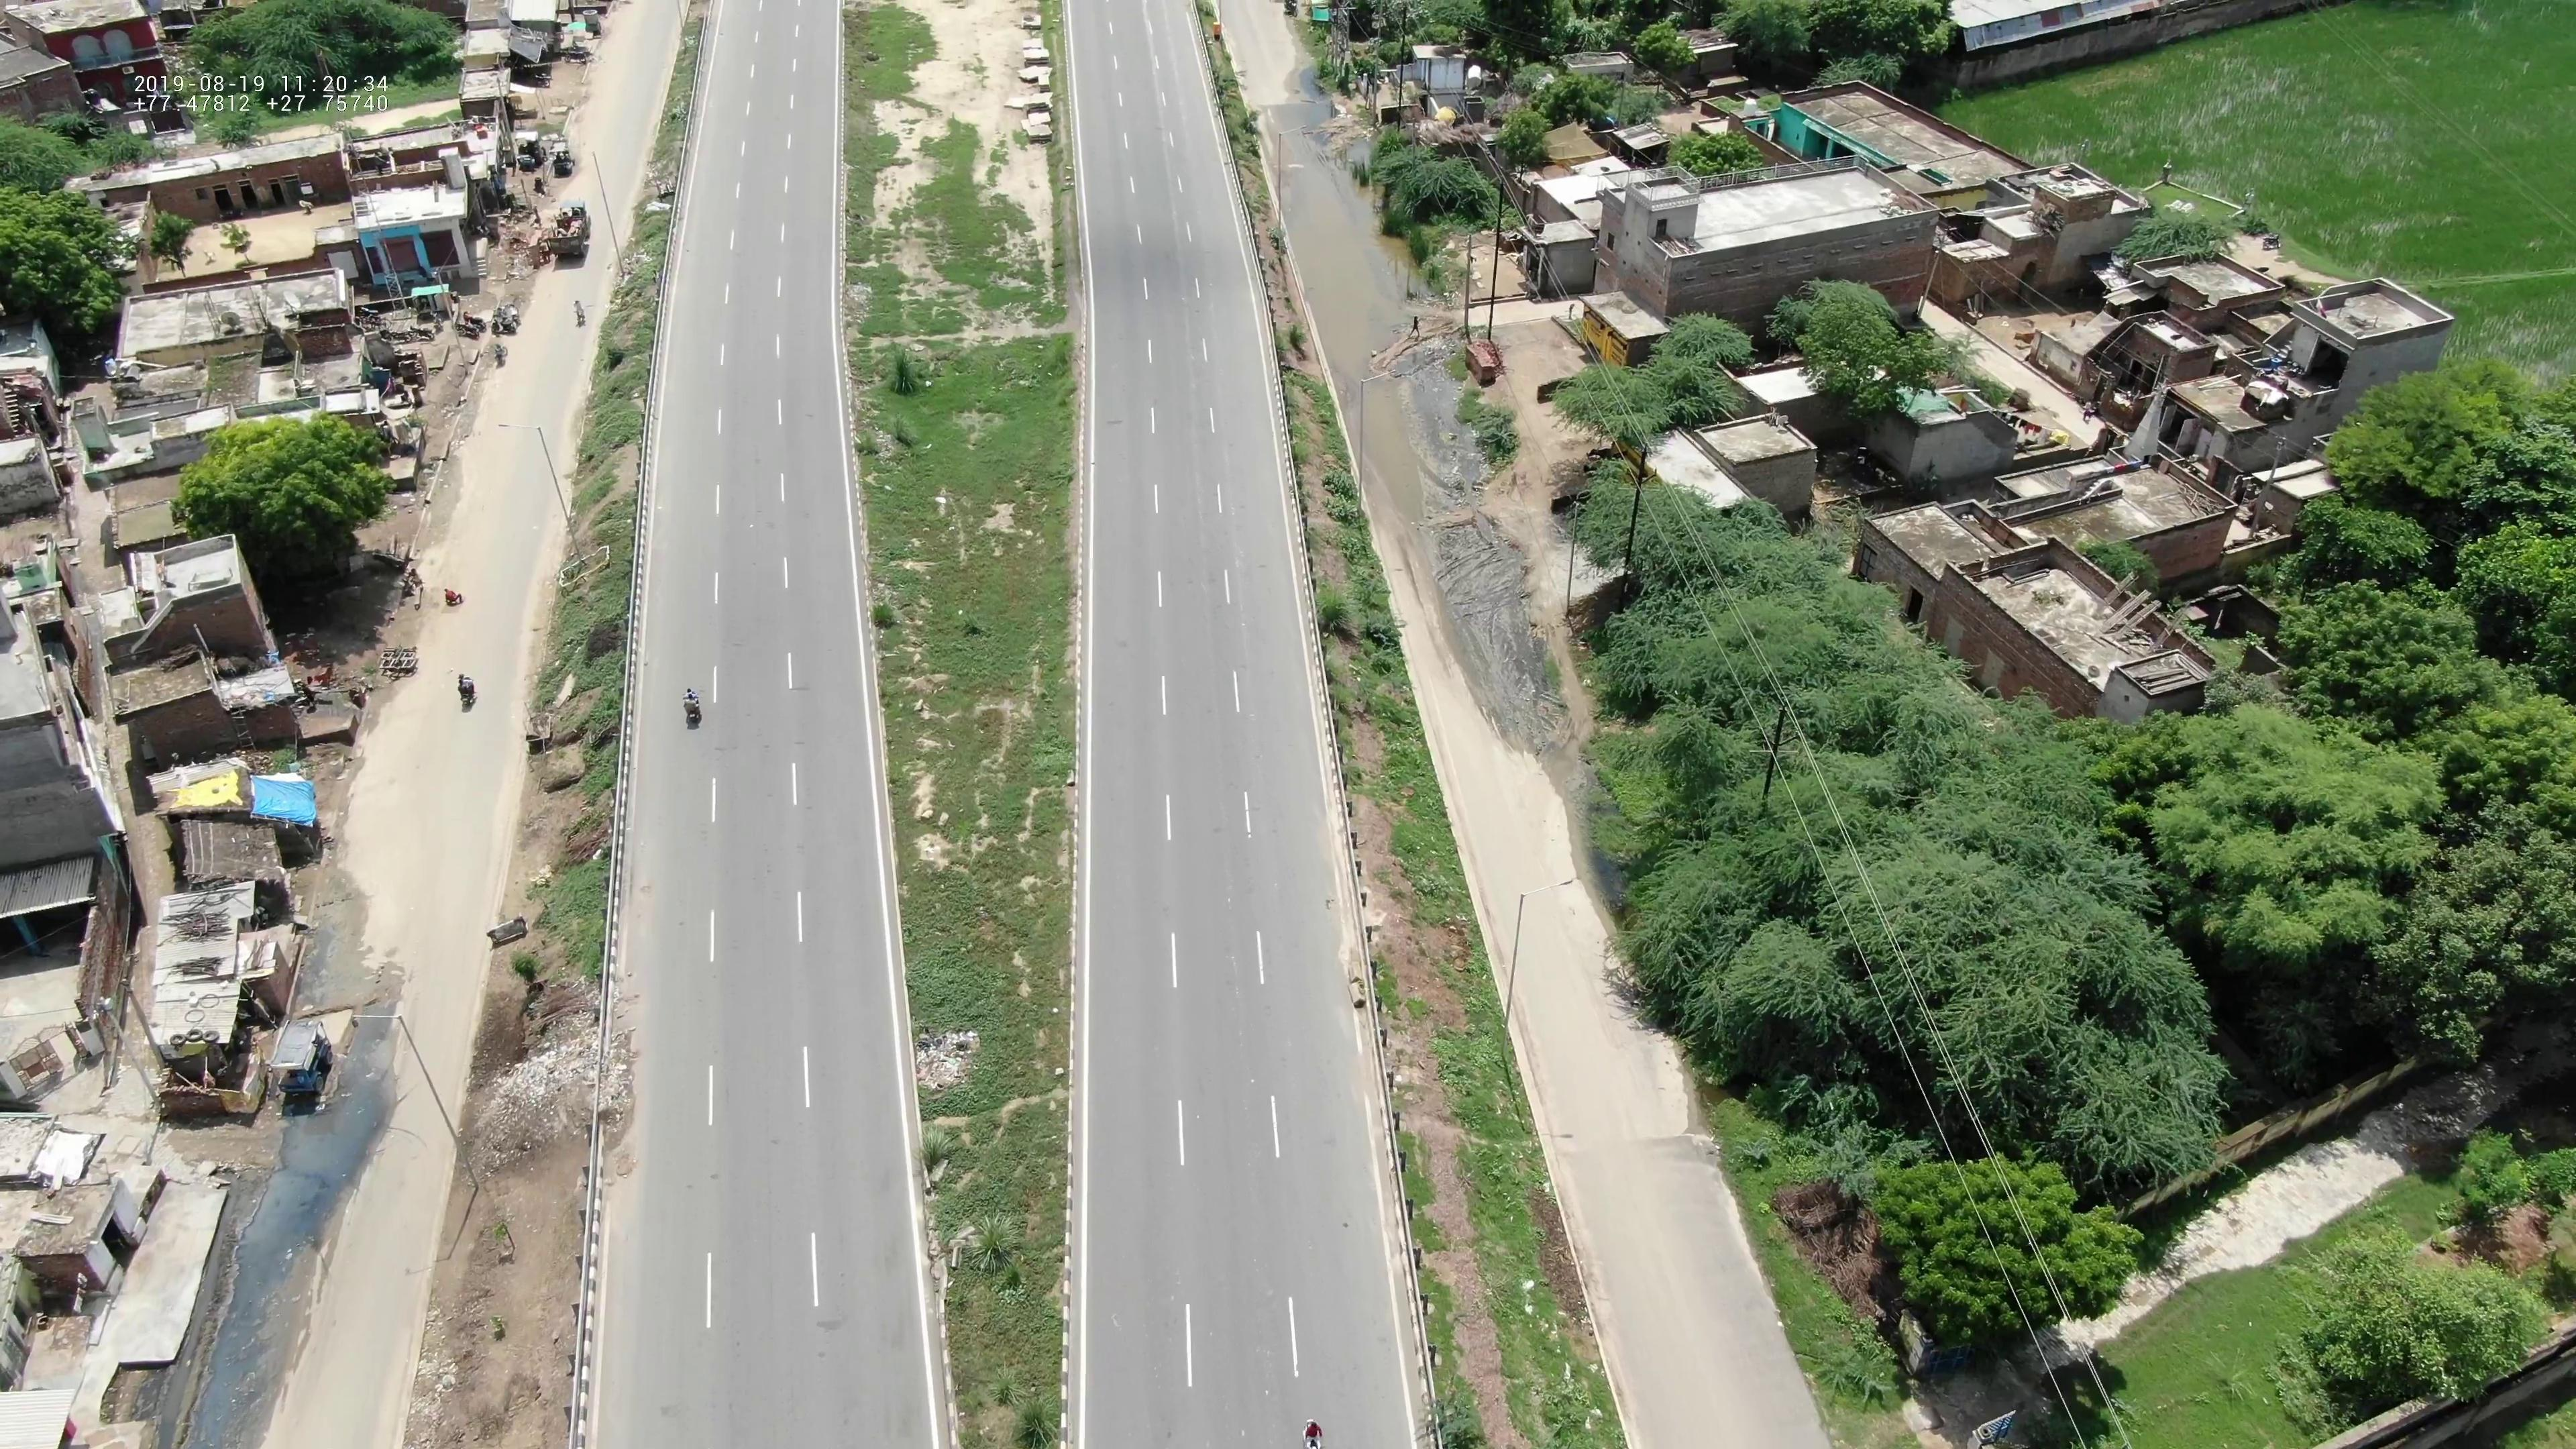Waterlogging: (1274, 152, 1435, 536)
